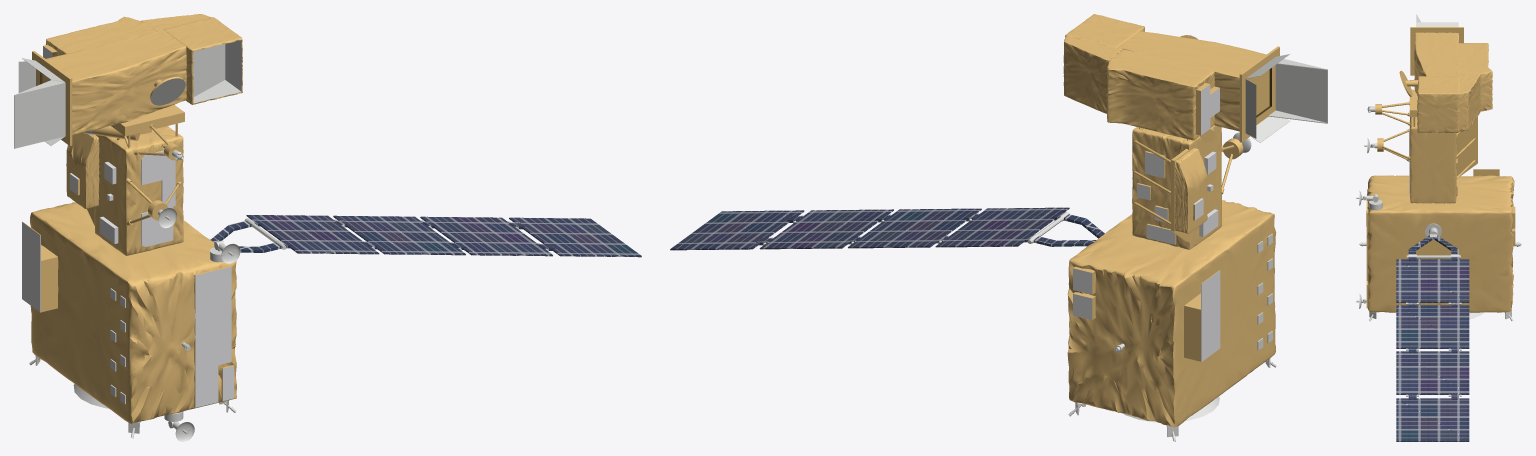
Rendered from landsat-7.glb.
The picture shows the model from 3 angles, left to right: view 1: azimuth 30°, elevation 25°; view 2: azimuth 150°, elevation 25°; view 3: azimuth 270°, elevation 25°; orthographic projection. The views are drawn at different scales.
Parts seen in each view (by area): view 1: body2, body, external hardware, Solar Panel; view 2: body2, body, Solar Panel, external hardware; view 3: body2, Solar Panel, body, external hardware.
Part boxes in pixels (bbox=[...]): body2: bbox=[22, 44, 236, 423]; body: bbox=[46, 14, 242, 136]; external hardware: bbox=[14, 46, 548, 441]; Solar Panel: bbox=[210, 215, 641, 257]; body2: bbox=[1067, 35, 1279, 427]; body: bbox=[1063, 14, 1266, 140]; Solar Panel: bbox=[670, 207, 1104, 250]; external hardware: bbox=[762, 54, 1327, 441]; body2: bbox=[1366, 27, 1515, 312]; Solar Panel: bbox=[1396, 235, 1469, 441]; body: bbox=[1409, 32, 1492, 132]; external hardware: bbox=[1356, 14, 1521, 396].
Bounding box in the file's own units: 4.04 × 2.24 × 1.32.
5 materials, 1 textured.
